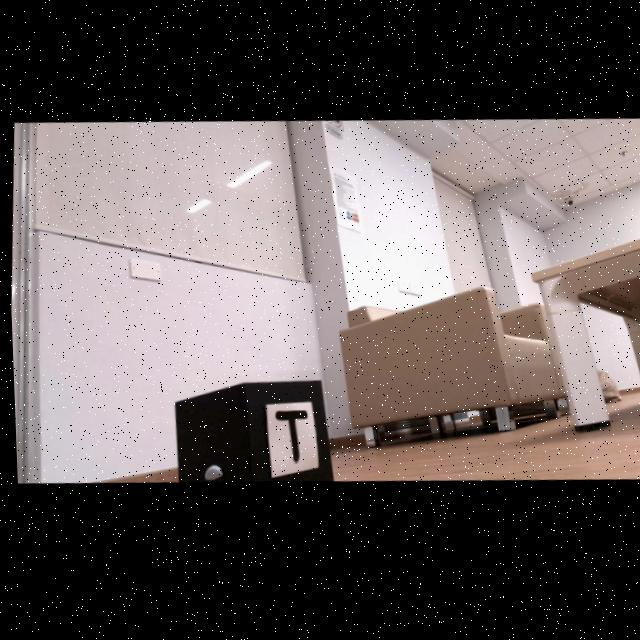T: (272, 414, 304, 466)
